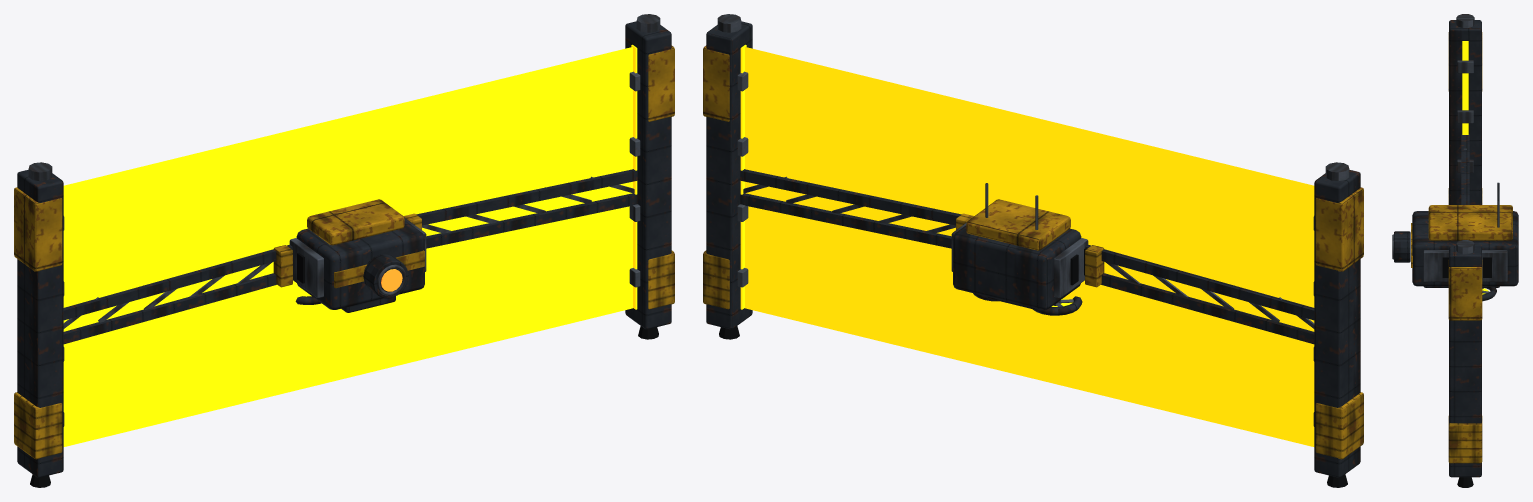
Rendered from end2-approach-barrier.glb.
3 views of the same model, side by side, from view 1: azimuth 30°, elevation 25°; view 2: azimuth 150°, elevation 25°; view 3: azimuth 270°, elevation 25° (orthographic). The views are drawn at different scales.
Parts seen in each view (by area): view 1: field, pylon_-1, pylon_1, pod_core, pylon_-1_paint, pod_top, boom_-1_0.55, boom_1_0.55, boom_-1_-0.55, boom_1_-0.55, pylon_-1_haz, pylon_1_paint (+6 smaller); view 2: field, pylon_-1, pylon_1, pod_core, pod_top, pylon_-1_paint, boom_-1_0.55, boom_1_0.55, boom_-1_-0.55, boom_1_-0.55, pylon_-1_haz, pylon_1_paint (+4 smaller); view 3: pylon_-1, pylon_1, pod_top, pod_core, pylon_1_paint, pod, pylon_1_haz, boom_-1_0.55, eye_housing, pylon_-1_strip, pylon_1_cap, pylon_-1_cap (+3 smaller).
Part boxes in pixels (x1,y1,x2,y2): field: [63, 47, 632, 446]; pylon_-1: [17, 169, 63, 477]; pylon_1: [625, 21, 671, 329]; pod_core: [296, 220, 424, 309]; pylon_-1_paint: [14, 187, 62, 271]; pod_top: [307, 199, 404, 245]; boom_-1_0.55: [63, 244, 292, 320]; boom_1_0.55: [416, 169, 637, 225]; boom_-1_-0.55: [63, 273, 276, 344]; boom_1_-0.55: [426, 193, 637, 248]; pylon_-1_haz: [14, 392, 62, 459]; pylon_1_paint: [648, 45, 674, 121]; field: [745, 47, 1314, 446]; pylon_-1: [1314, 169, 1360, 477]; pylon_1: [706, 21, 752, 329]; pod_core: [953, 225, 1081, 309]; pod_top: [966, 199, 1070, 250]; pylon_-1_paint: [1315, 187, 1363, 271]; boom_-1_0.55: [1085, 244, 1314, 320]; boom_1_0.55: [740, 169, 961, 225]; boom_-1_-0.55: [1101, 273, 1314, 344]; boom_1_-0.55: [740, 193, 951, 248]; pylon_-1_haz: [1315, 392, 1363, 459]; pylon_1_paint: [703, 45, 729, 121]; pylon_-1: [1449, 20, 1481, 204]; pylon_1: [1449, 246, 1481, 477]; pod_top: [1428, 205, 1512, 240]; pod_core: [1412, 211, 1518, 286]; pylon_1_paint: [1448, 260, 1482, 320]; pod: [1423, 201, 1507, 281]; pylon_1_haz: [1448, 416, 1482, 463]; boom_-1_0.55: [1461, 134, 1469, 204]; eye_housing: [1394, 231, 1410, 262]; pylon_-1_strip: [1462, 41, 1468, 134]; pylon_1_cap: [1456, 240, 1474, 254]; pylon_-1_cap: [1456, 14, 1474, 27].
Size of the model in its own units: 30.76 by 14.5 by 6.89.
Materials: 8 (4 with a texture image).
